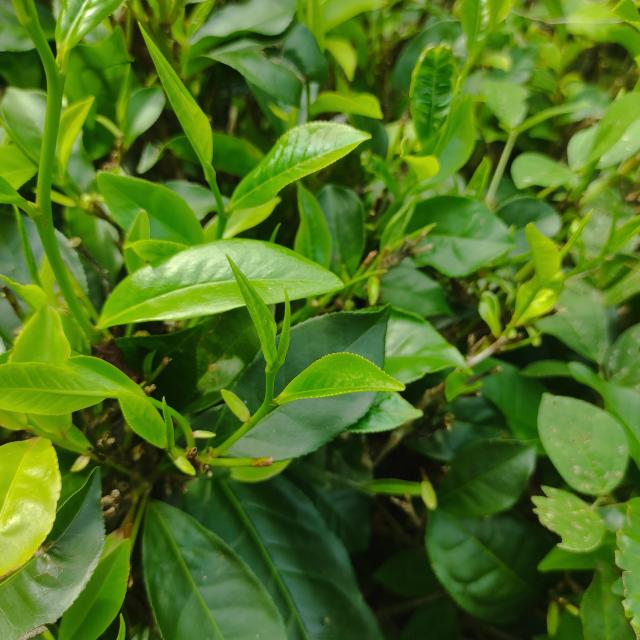unopened_leaf: (260, 288, 295, 386), (556, 202, 596, 263), (155, 394, 181, 460), (111, 602, 133, 640)
